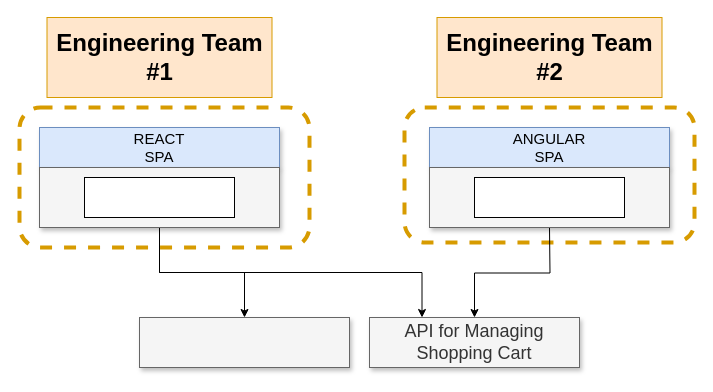
This 713x392 diagram has some shape labels left out. Here are the shapes that lost their labels. From the top down, the centre of each, then its label:
At (x=159, y=197): "ProductListing".
At (x=549, y=197): "ShoppingCart".
At (x=245, y=343): "API for Retrieving Products".
